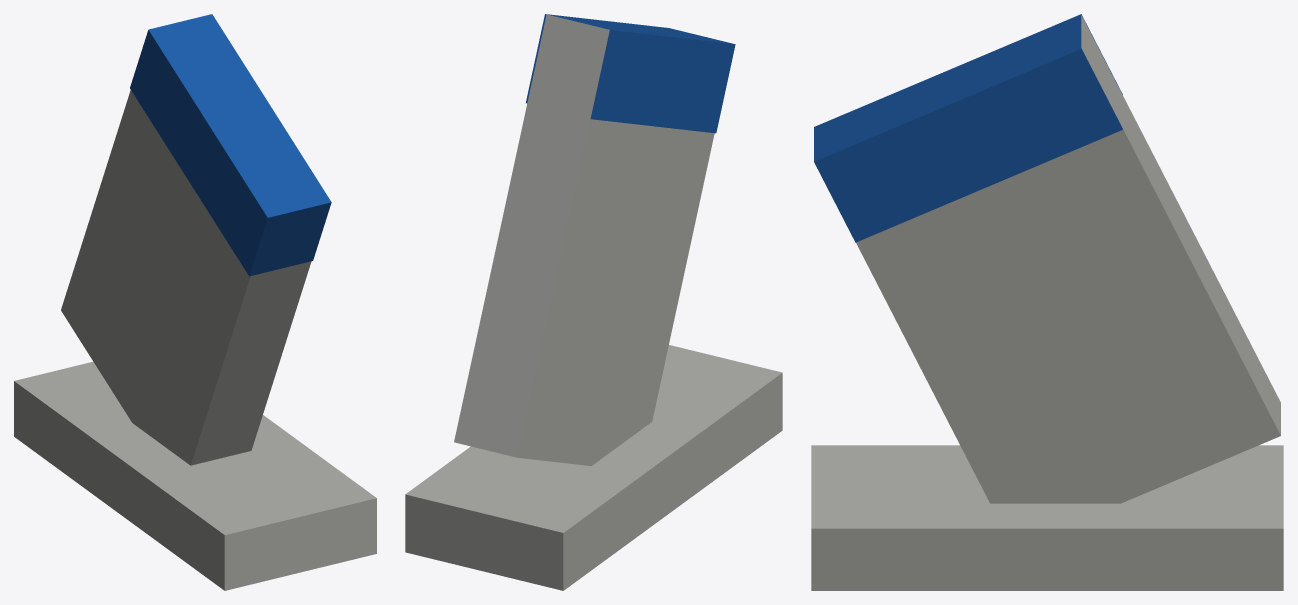
The model's file is civilian_fin.glb.
3 views of the same model, side by side, from view 1: azimuth 30°, elevation 25°; view 2: azimuth 150°, elevation 25°; view 3: azimuth 270°, elevation 25° (orthographic). The views are drawn at different scales.
Size of the model in its own units: 0.1 by 0.2905 by 0.24.
